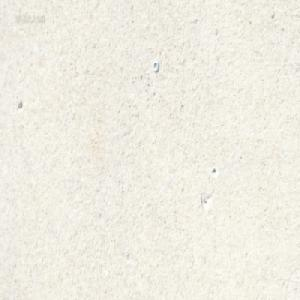Washer: (151, 59, 158, 72)
